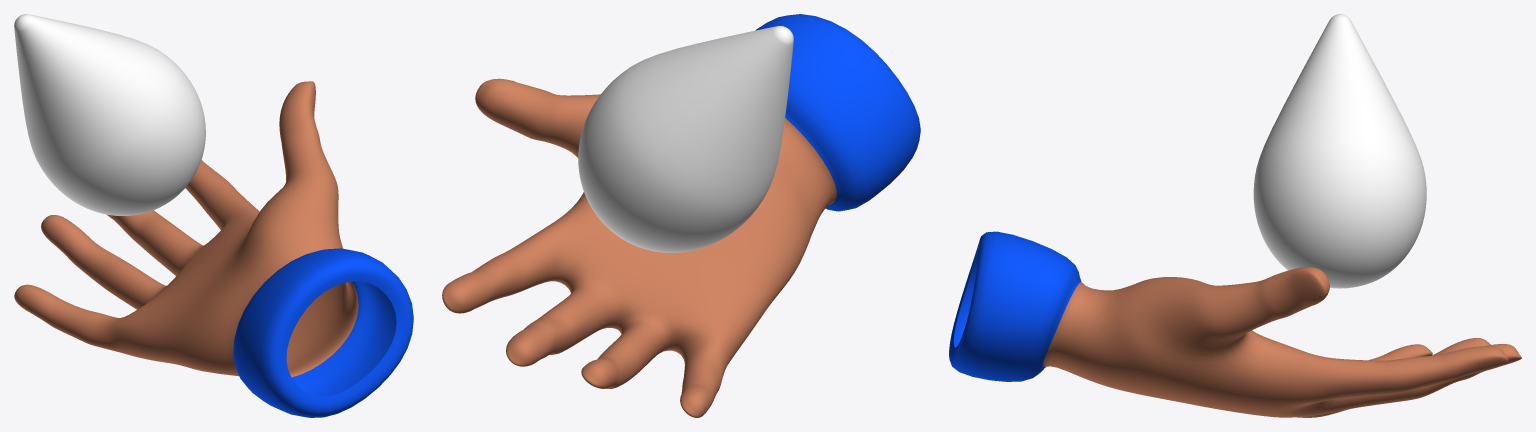
Rendered from Blood Donors.glb.
The picture shows the model from 3 angles, left to right: view 1: azimuth 30°, elevation 25°; view 2: azimuth 150°, elevation 25°; view 3: azimuth 270°, elevation 25°; orthographic projection. The views are drawn at different scales.
Visible parts, largest first — view 1: Object, Cylinder.002; view 2: Object, Cylinder.002; view 3: Object, Cylinder.002.
Part boxes in pixels (x1,y1,x2,y2): Object: (14,81,413,417); Cylinder.002: (14,14,205,215); Object: (442,14,920,417); Cylinder.002: (578,26,793,252); Object: (949,231,1521,417); Cylinder.002: (1253,14,1426,288).
Bounding box in the file's own units: 3.2 × 3.62 × 5.44.
